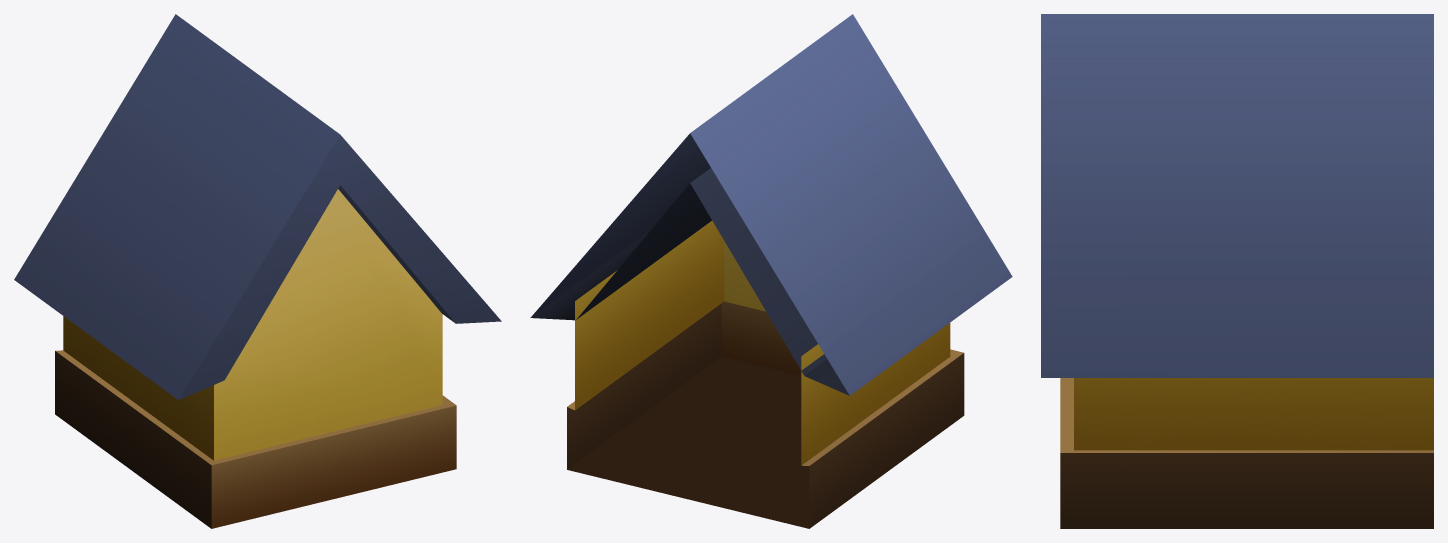
The model's file is Attic_02A.fbx.
The picture shows the model from 3 angles, left to right: view 1: azimuth 30°, elevation 25°; view 2: azimuth 150°, elevation 25°; view 3: azimuth 270°, elevation 25°; orthographic projection. The views are drawn at different scales.
Visible parts, largest first — view 1: Attic_02A; view 2: Attic_02A; view 3: Attic_02A.
Boxes of the visible parts, bbox=[...] form: Attic_02A: bbox=[14, 14, 501, 528]; Attic_02A: bbox=[530, 14, 1012, 528]; Attic_02A: bbox=[1041, 14, 1433, 528].
Bounding box in the file's own units: 283 × 310 × 249.
Materials: 2 (2 with a texture image).
